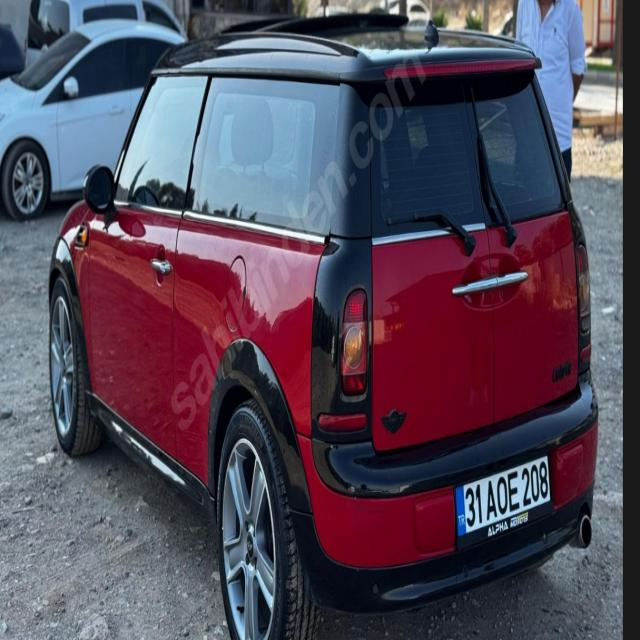mini: (374, 396, 411, 442)
